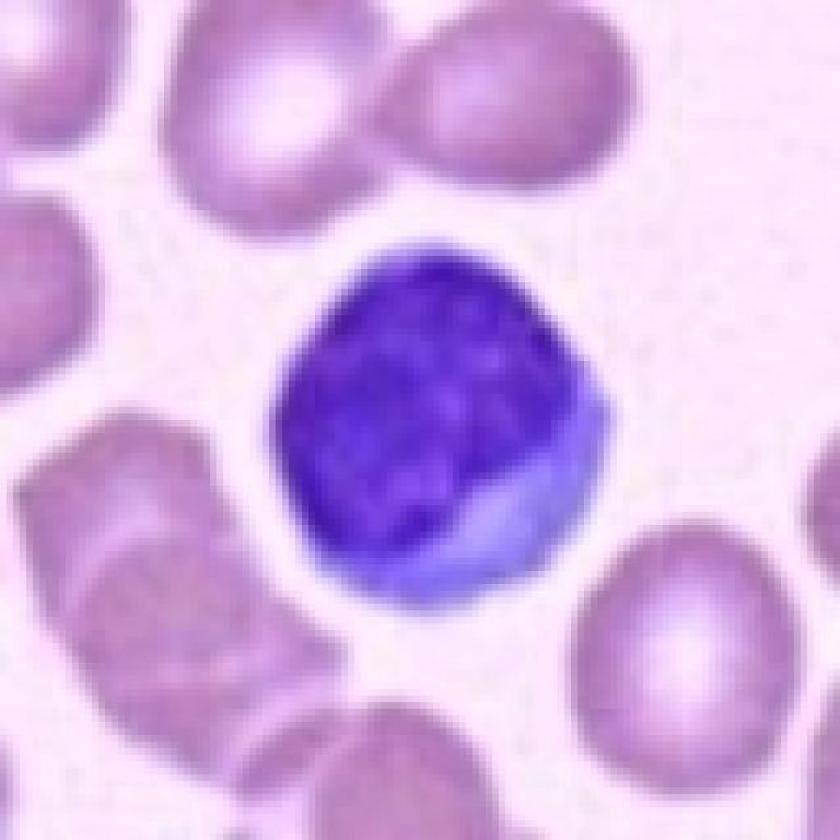lymphocyte: (253, 222, 618, 621)
